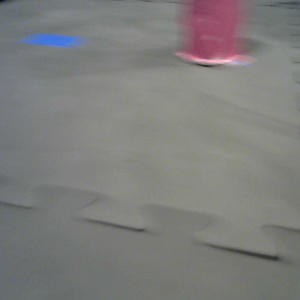Right: (175, 2, 244, 64)
